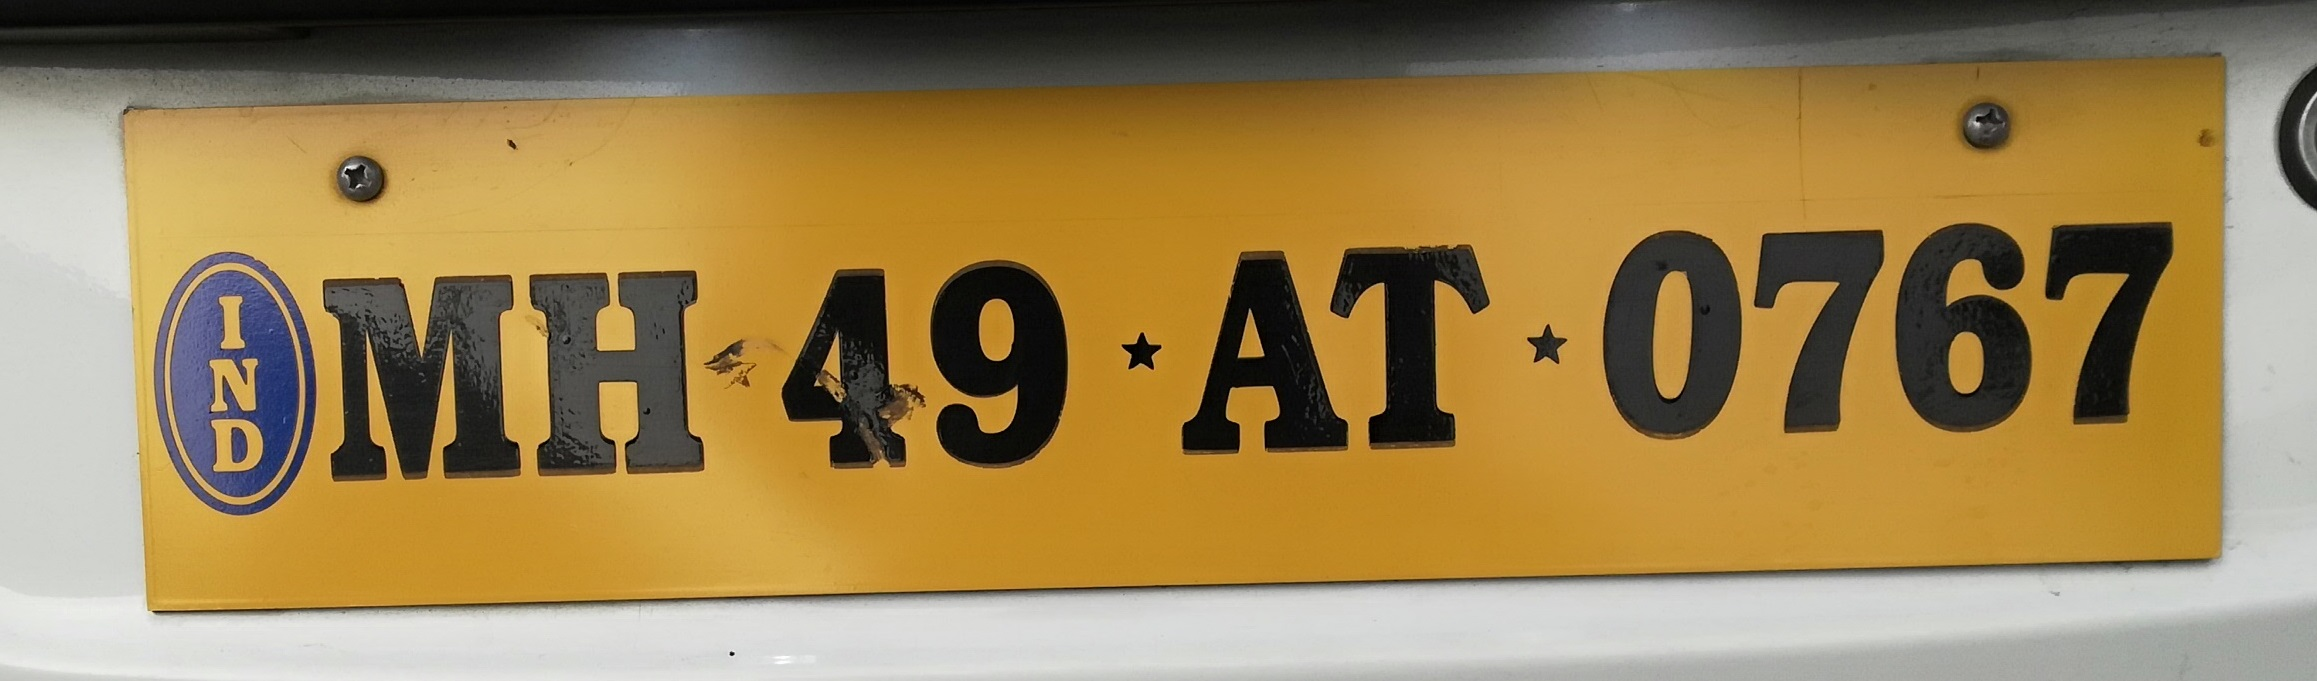numberplate: (118, 44, 2232, 620)
